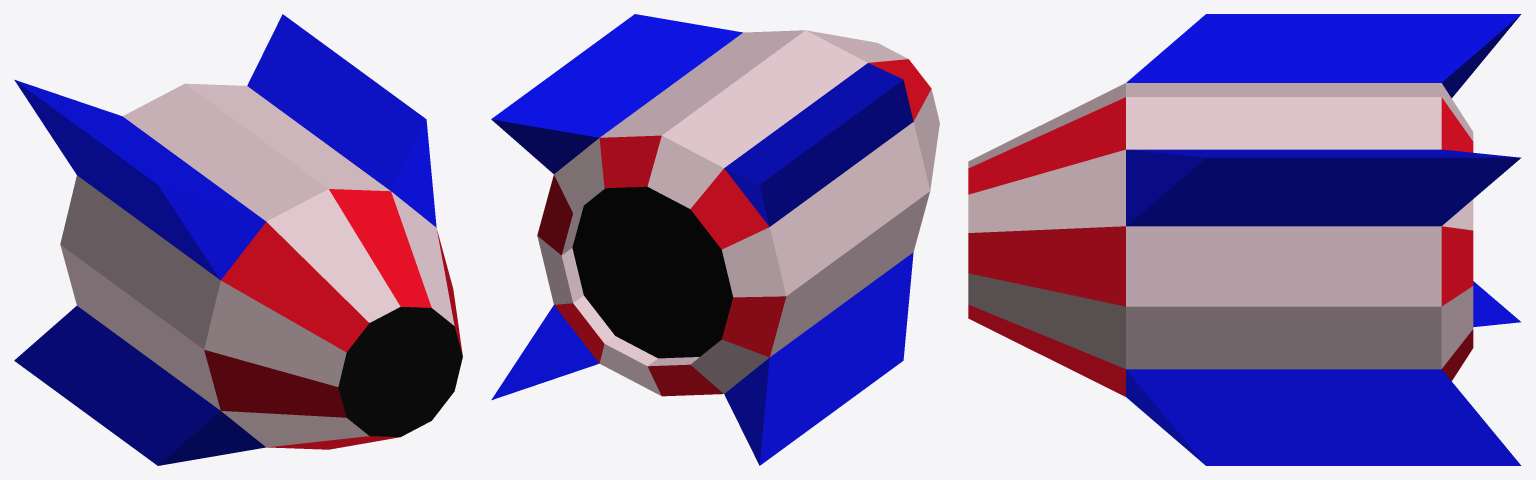
Rendered from missle.glb.
3 views of the same model, side by side, from view 1: azimuth 30°, elevation 25°; view 2: azimuth 150°, elevation 25°; view 3: azimuth 270°, elevation 25° (orthographic). The views are drawn at different scales.
Parts seen in each view (by area): view 1: Cylinder; view 2: Cylinder; view 3: Cylinder.
Part boxes in pixels (bbox=[...]): Cylinder: bbox=[14, 14, 462, 465]; Cylinder: bbox=[491, 14, 939, 465]; Cylinder: bbox=[968, 14, 1521, 465].
Bounding box in the file's own units: 2.16 × 2.16 × 3.51.
